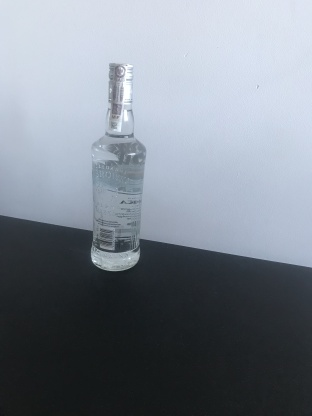nakretka: (106, 58, 136, 108)
